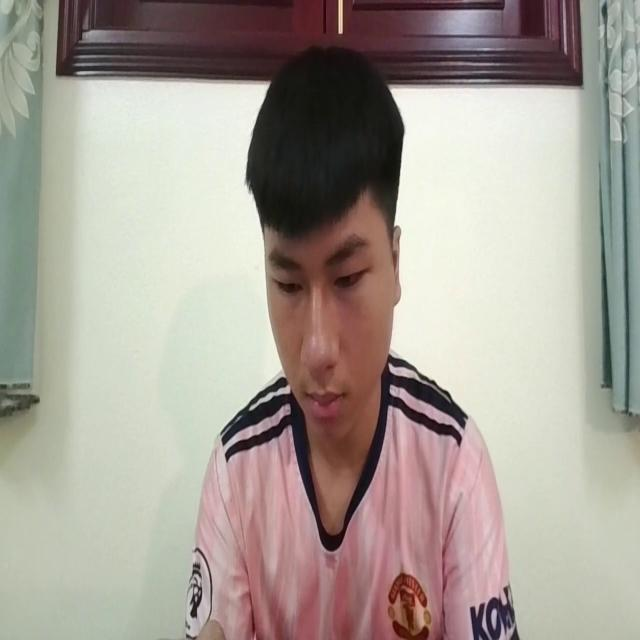student: (176, 34, 516, 640)
